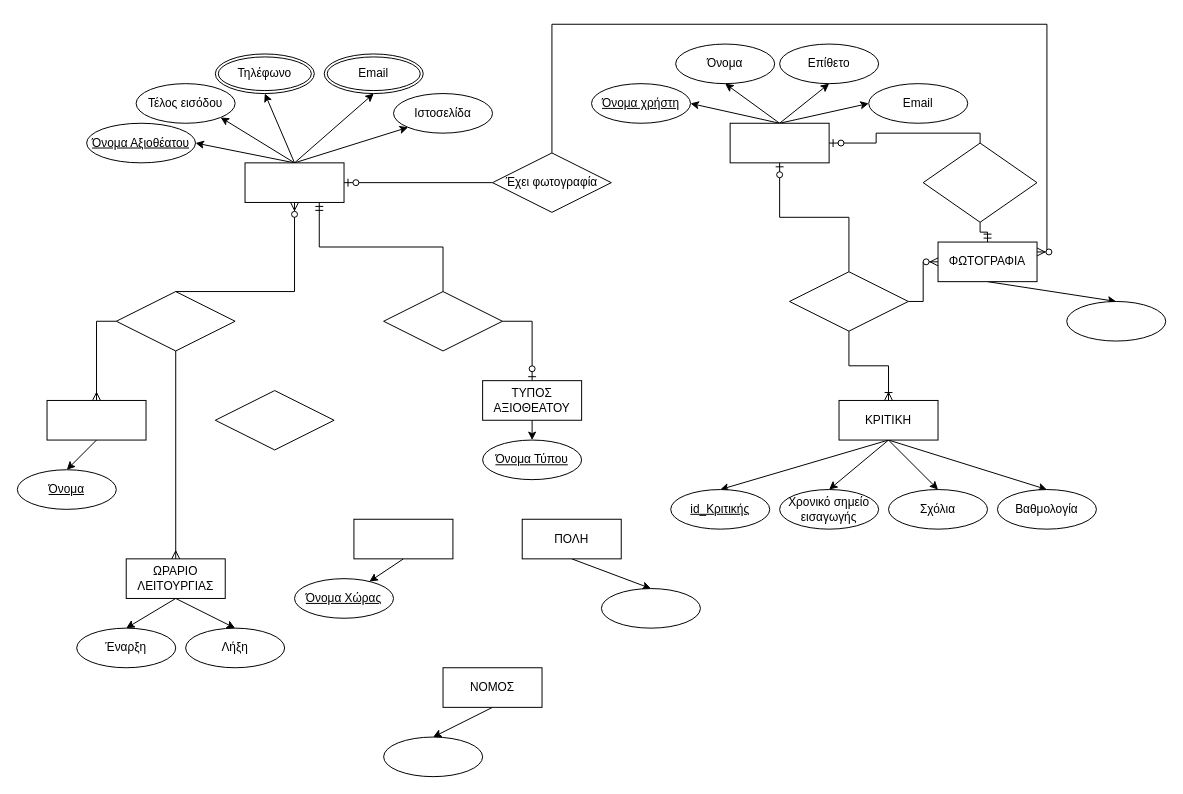
Image size: 1183x794. Some labels were removed from this diagram. The shapes that lost their labels are listed below. From the top down, each one's box as (x1, y1, x2, y2) in pixels, then its label:
(729, 122, 829, 163): ΧΡΗΣΤΗΣ
(244, 162, 344, 202): ΑΞΙΟΘΕΑΤΟ
(922, 142, 1037, 222): Έχει φωτογραφία προφίλ
(115, 291, 235, 351): Λειτουργεί
(383, 291, 502, 351): Είναι τύπου
(789, 271, 908, 331): Προσθήκη Φωτογραφίας
(1066, 300, 1166, 341): Url
(46, 399, 146, 440): ΗΜΕΡΑ
(214, 390, 334, 450): Ανήκει
(353, 518, 453, 559): ΧΩΡΑ
(600, 588, 700, 628): Όνομα Πόλης
(383, 736, 483, 777): Όνομα Νομού
